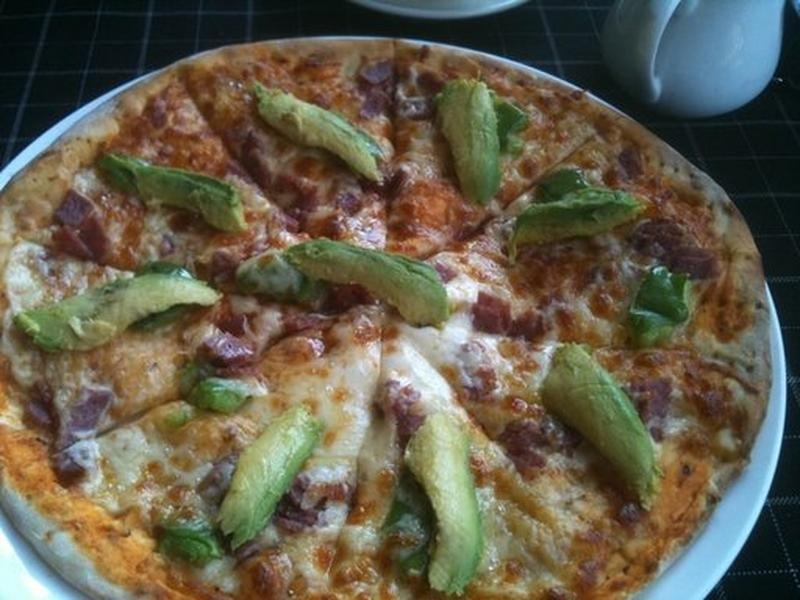pizza: (15, 48, 800, 598)
